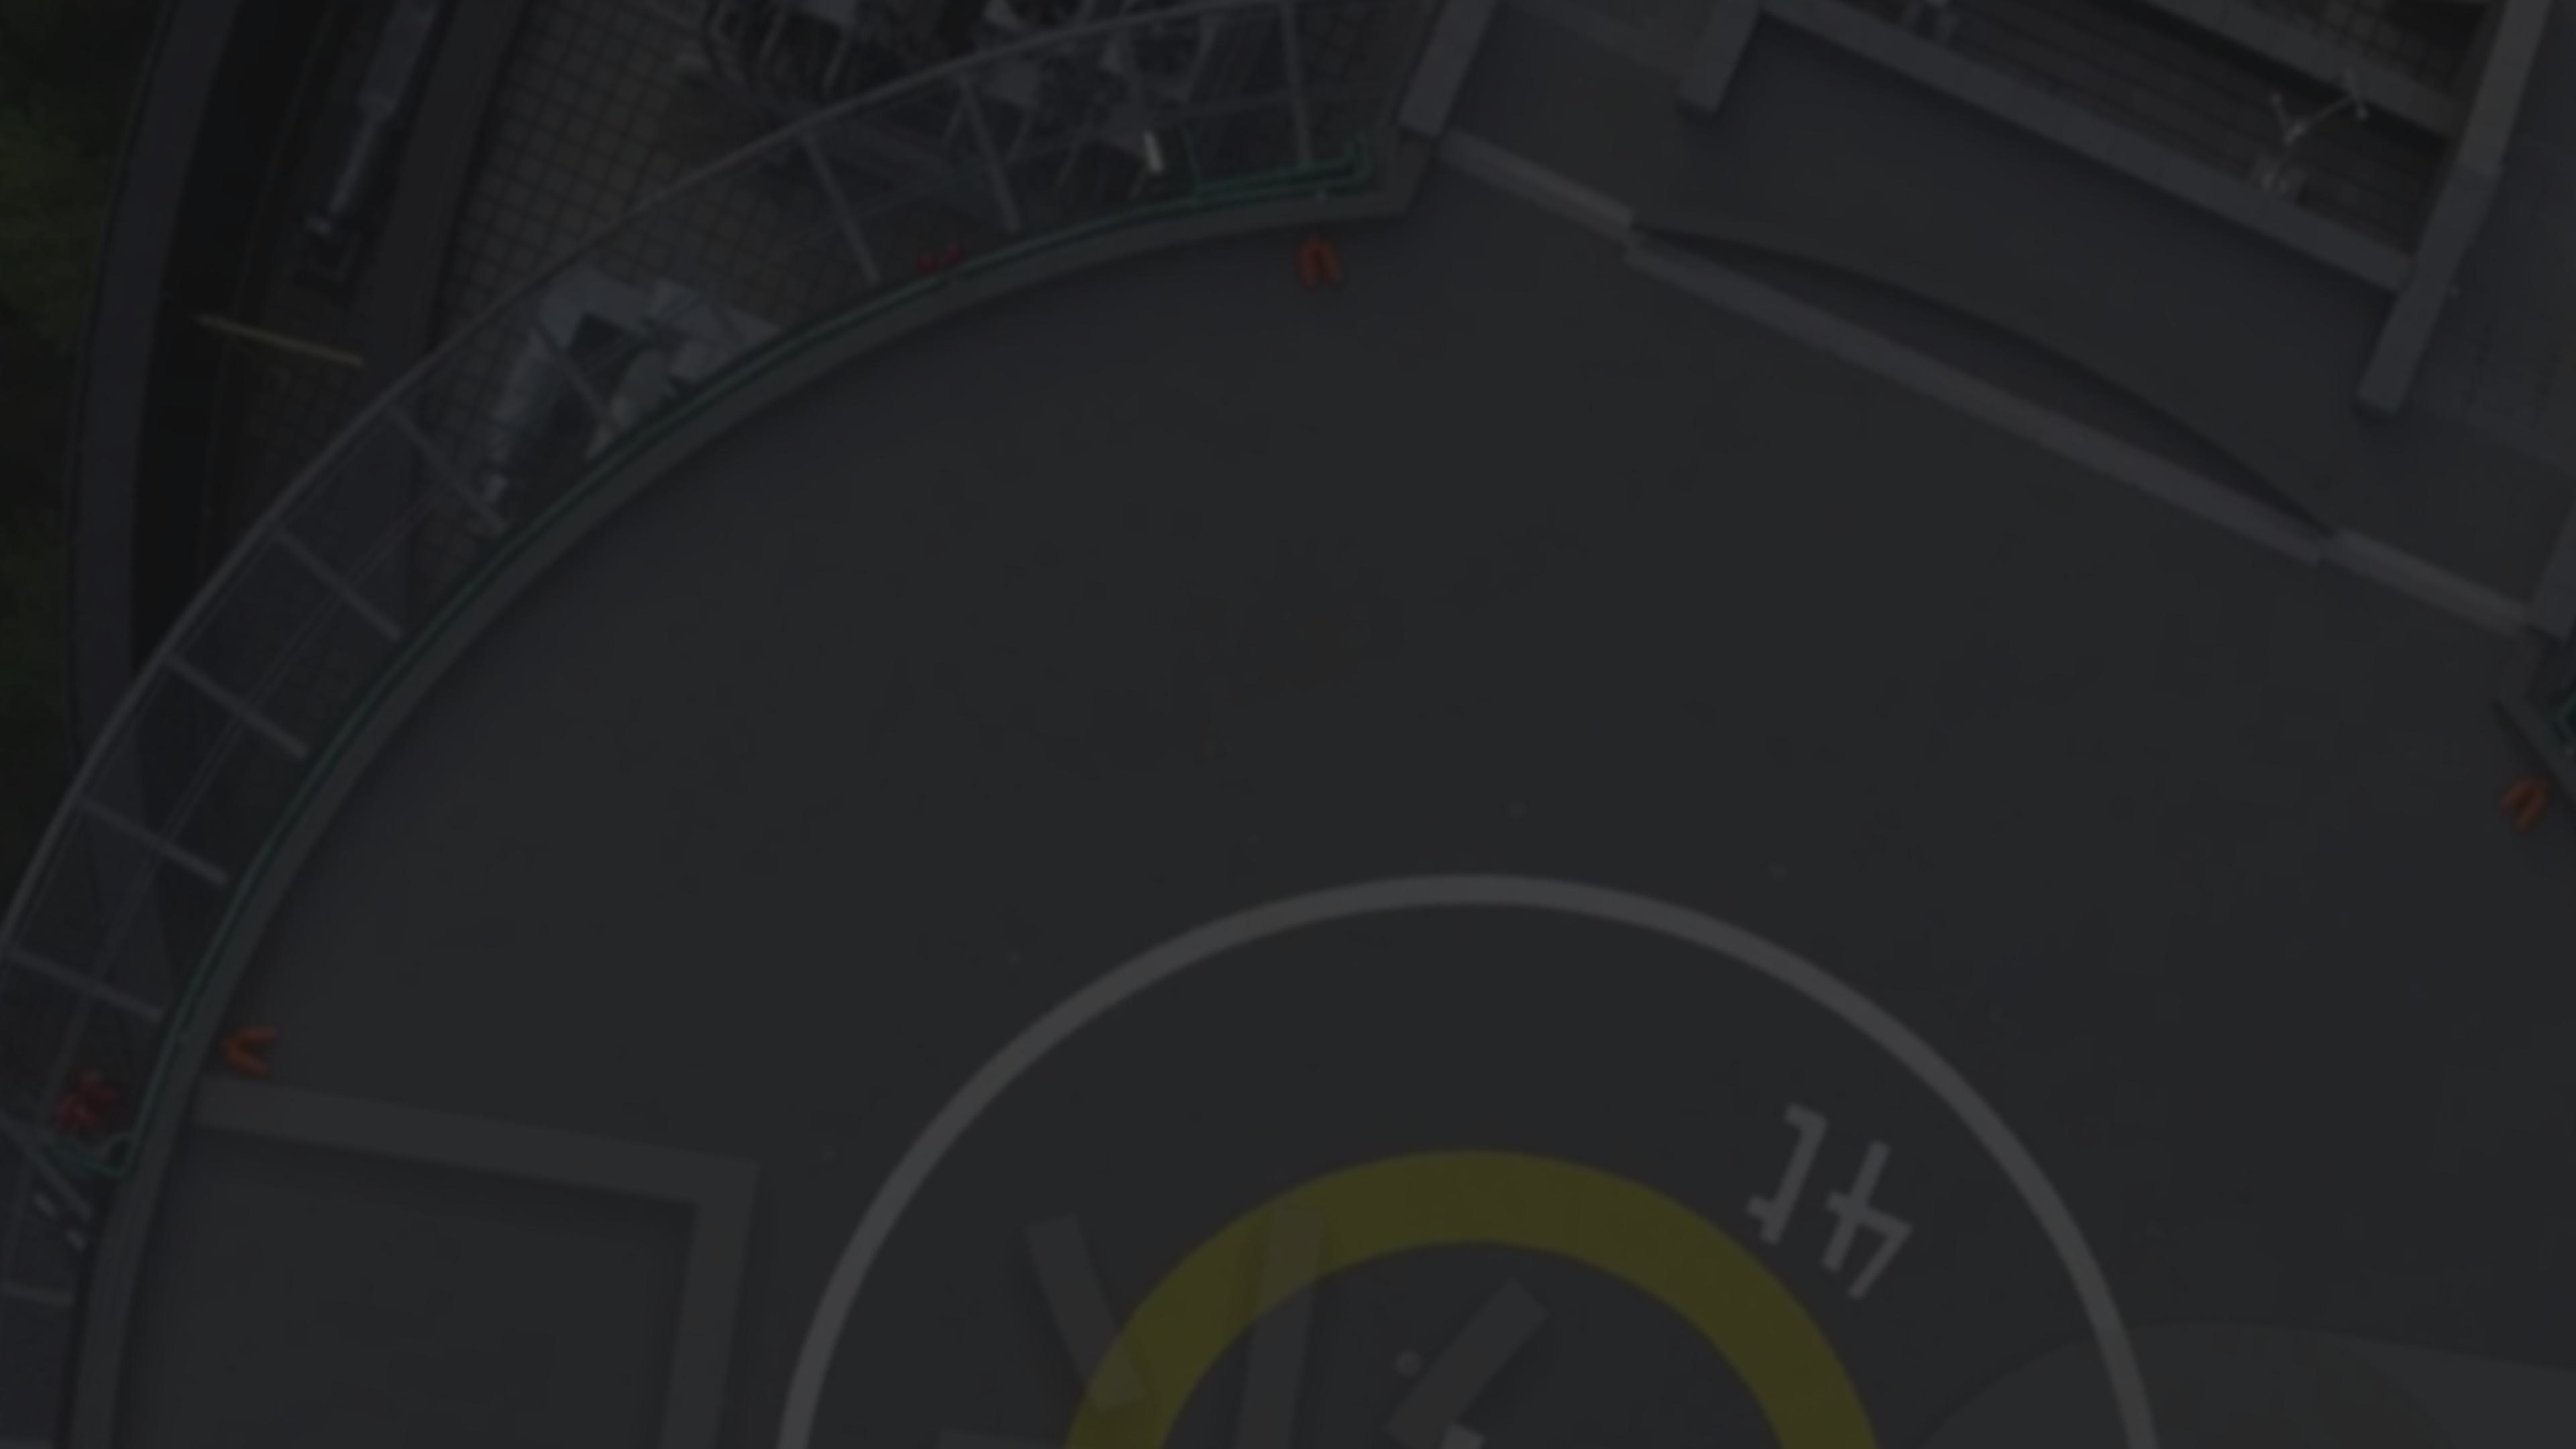Apron: (1010, 1093, 1927, 1449)
